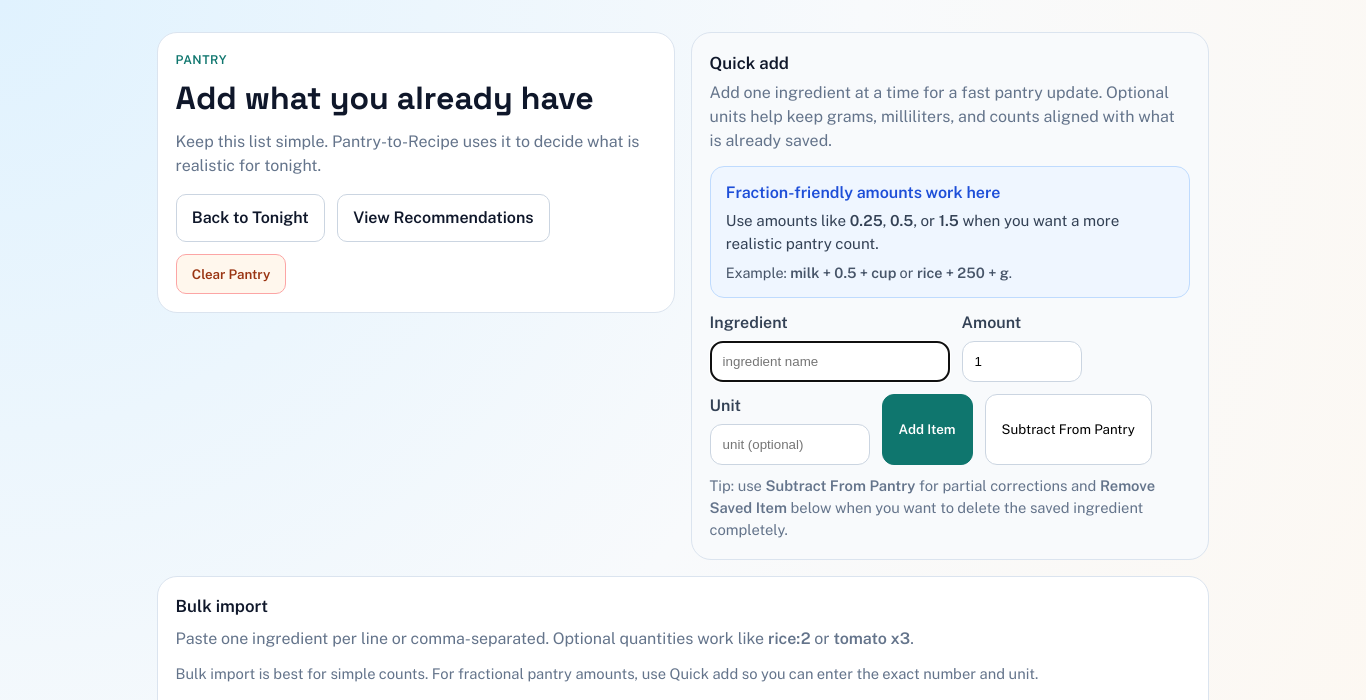
Test: Pantry clear flow › shows a confirmation panel before clearing
This screenshot has width=1366, height=700.
Click the button "Clear Pantry" at (231, 274), box [176,254,286,294]
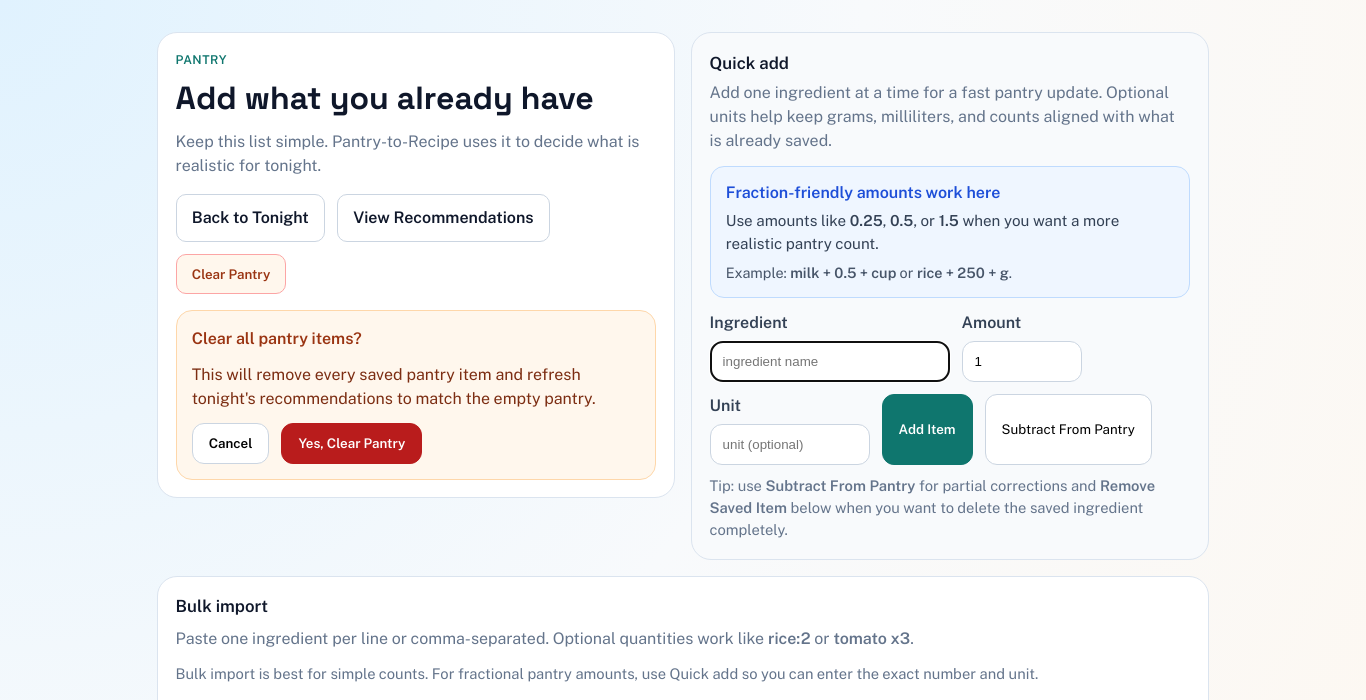
Check: the text "Clear all pantry items?" is shown, box [192,328,362,348]
Check: the text "This will remove every saved pantry item" is shown, box [192,364,596,408]
Click the button "Cancel" at (231, 443), box [192,422,269,464]
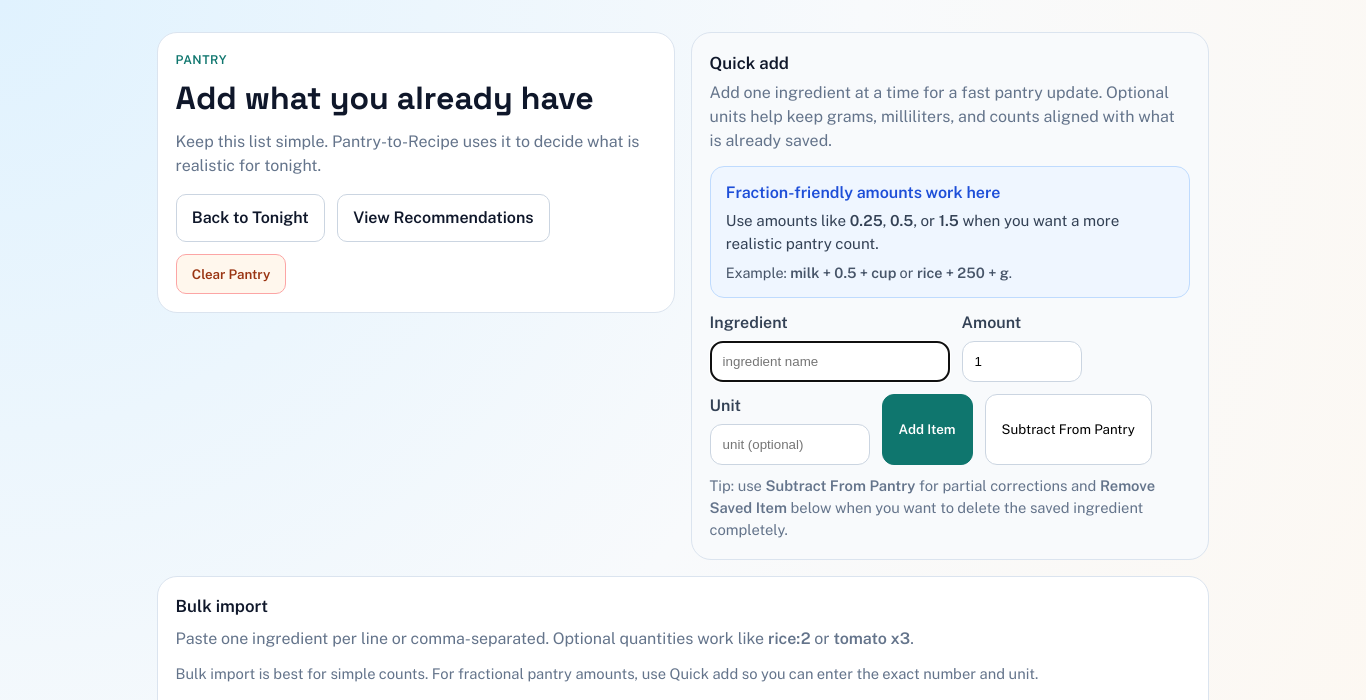
Check: the text "Clear all pantry items?" is gone
